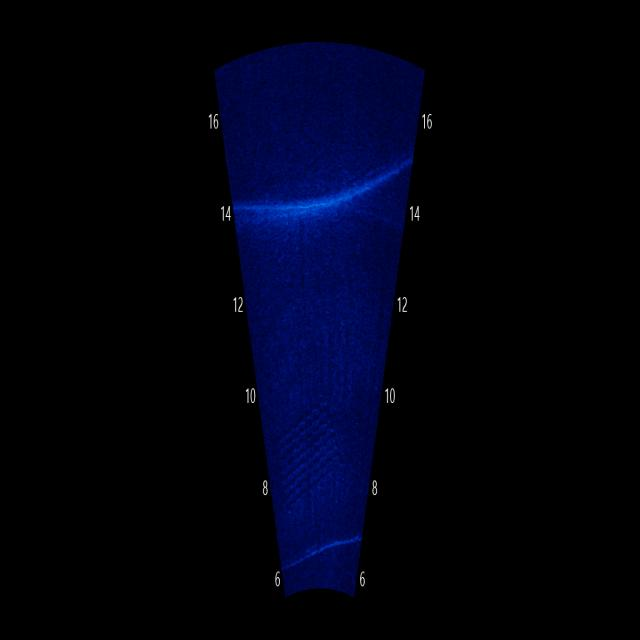square: (260, 380, 347, 504)
